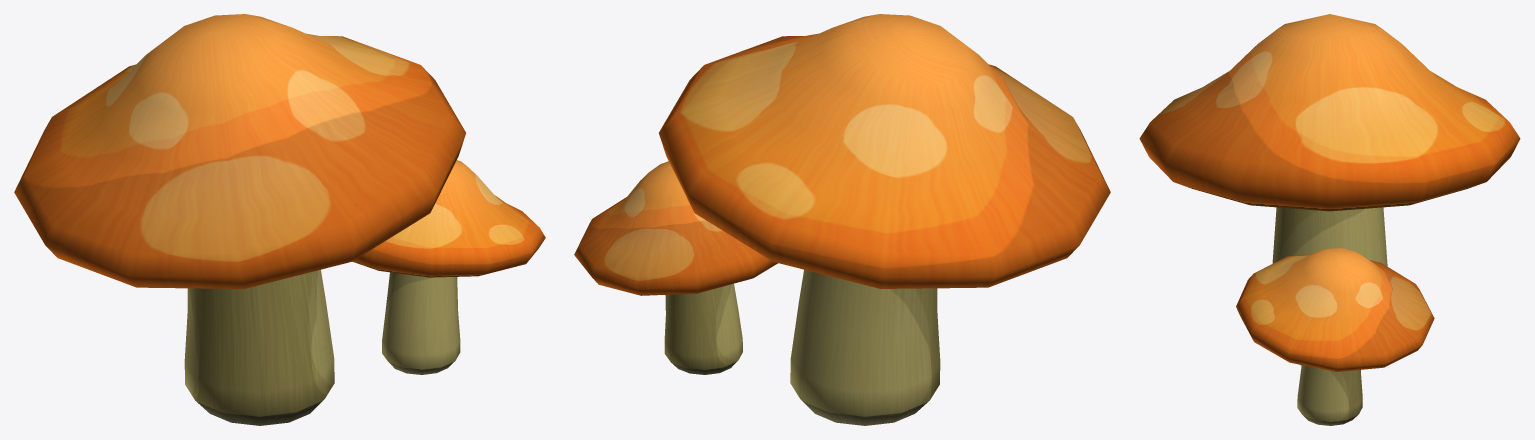
File: Mushroom_Mesh_1.FBX
3 renders of one model, left to right at view 1: azimuth 30°, elevation 25°; view 2: azimuth 150°, elevation 25°; view 3: azimuth 270°, elevation 25°, orthographic. The views are drawn at different scales.
Visible parts, largest first — view 1: Mushroom_1; view 2: Mushroom_1; view 3: Mushroom_1.
Part boxes in pixels (x1,y1,x2,y2): Mushroom_1: (14,14,545,425); Mushroom_1: (574,14,1110,425); Mushroom_1: (1139,14,1520,425).
Bounding box in the file's own units: 176 × 133 × 143.
1 material, 1 textured.
